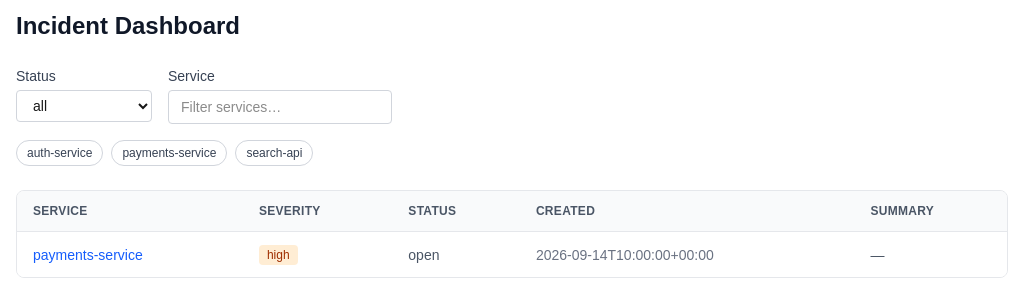
Test case: service typeahead › filters the tag row by case-insensitive substring without querying
Expected: the button "payments-service" is shown, [111,140,227,166]
Type "PAY" into the field labelled "Service".
click(280, 107); type("PAY")  # box [168,90,392,124]
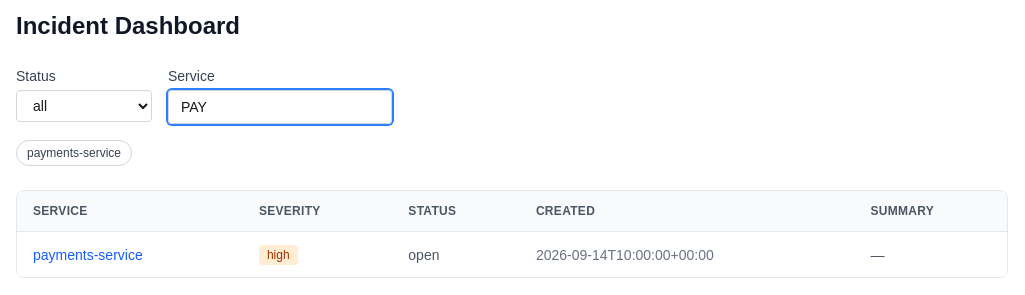
Result: the buttons read "payments-service", in this order at [16,140,132,166]
